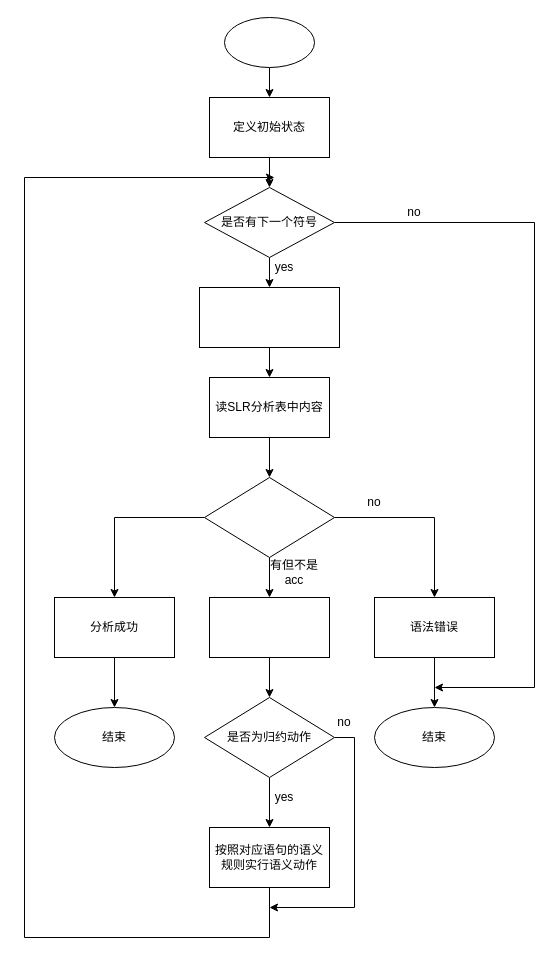
This 560x963 diagram has some shape labels left out. The shapes that lost their labels are listed below. From the top down, each one's centre as x and y in pixels, then its label:
[269,42]: 开始
[269,317]: 读取下一个符号 记录当前状态号
[269,517]: 有内容
[269,627]: 执行动作
